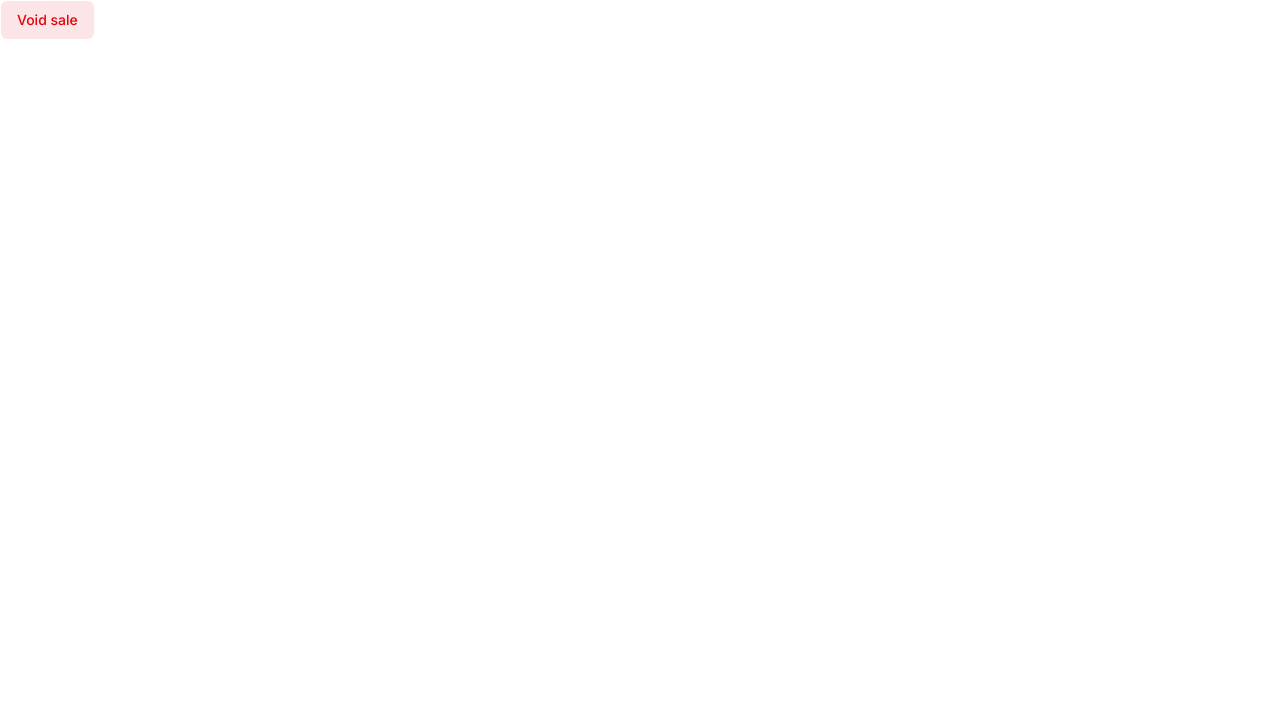
Test: sale void control › requires a reason and reuses the void key for an unchanged retry
Later steps or results of the test are not shown.
Click the button "Void sale": {"x": 47, "y": 20} [0,0,95,40]
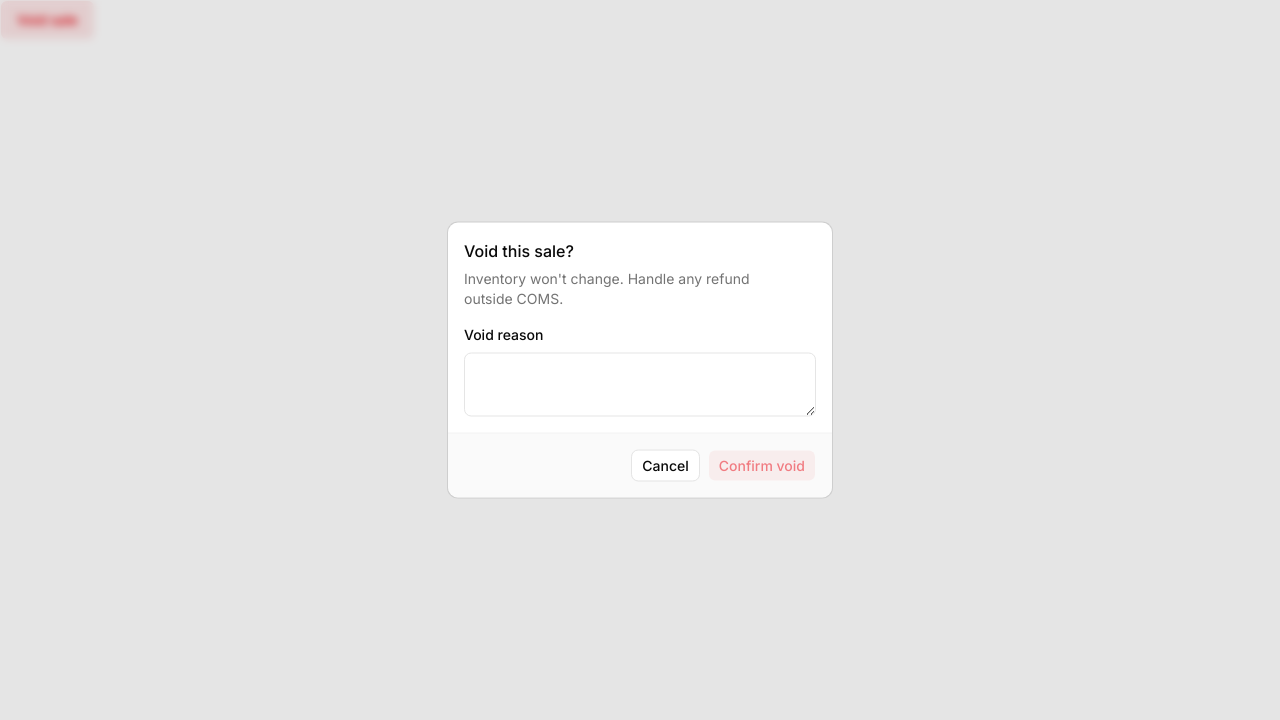
Check: the text "Inventory won't change. Handle any refund outside COMS." is shown, box [464,270,750,306]
Check: the button "Confirm void" is disabled, box [708,450,816,482]
In the text box labelled "Void reason": {"x": 640, "y": 384} [464,352,816,416], type "Cashier selected the wrong product"
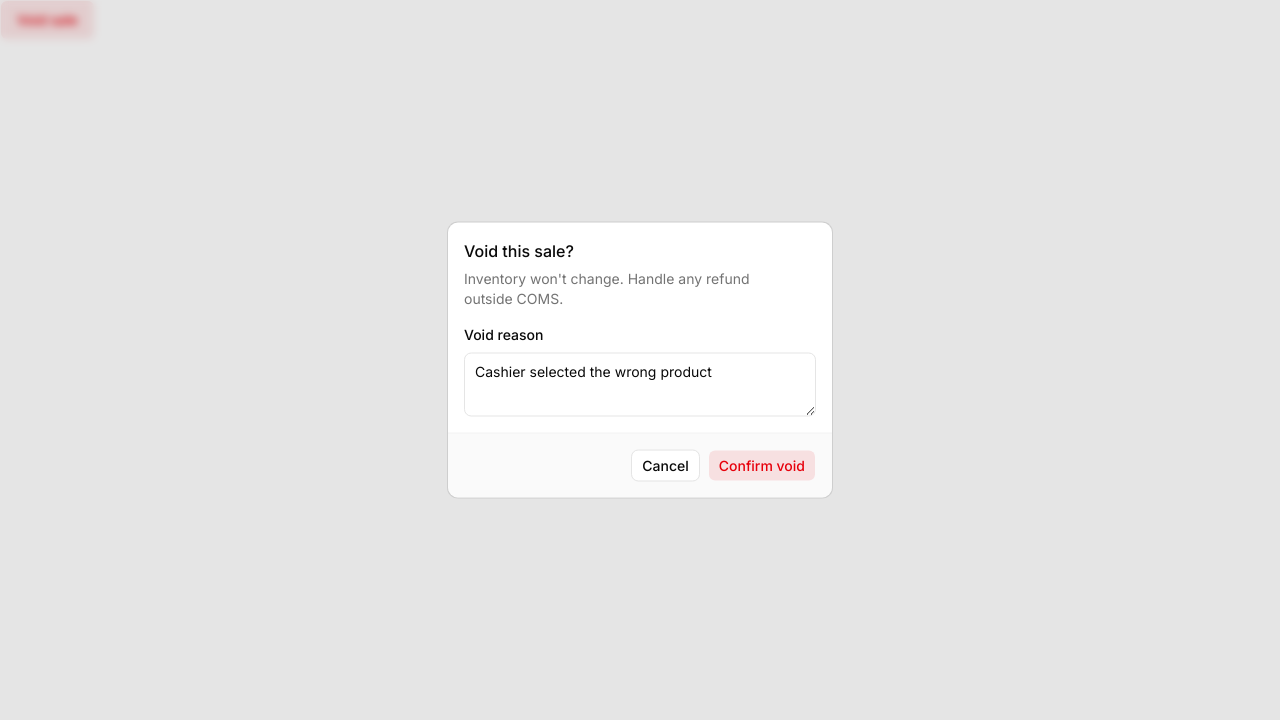
Check: the button "Confirm void" is enabled
Click the button "Confirm void": {"x": 762, "y": 466} [708,450,816,482]
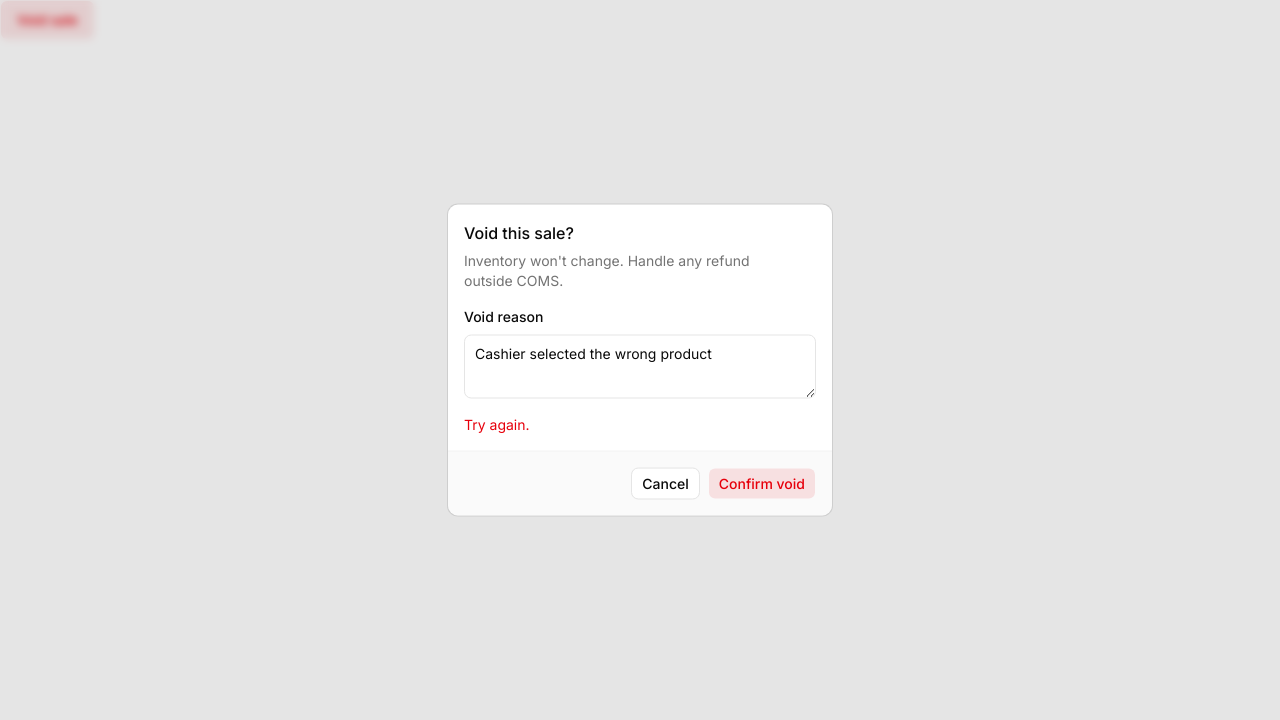
Check: the message reads "Try again.", box [464,416,530,432]
